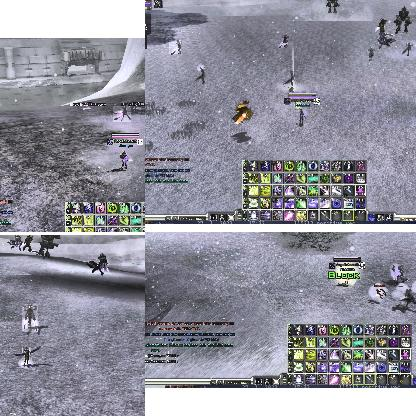caliana: (22, 304, 38, 332), (391, 264, 407, 286), (400, 288, 416, 309), (113, 106, 131, 122), (282, 71, 296, 89), (196, 66, 206, 84), (169, 40, 181, 54), (278, 34, 288, 48), (402, 42, 412, 56), (366, 48, 376, 61)
